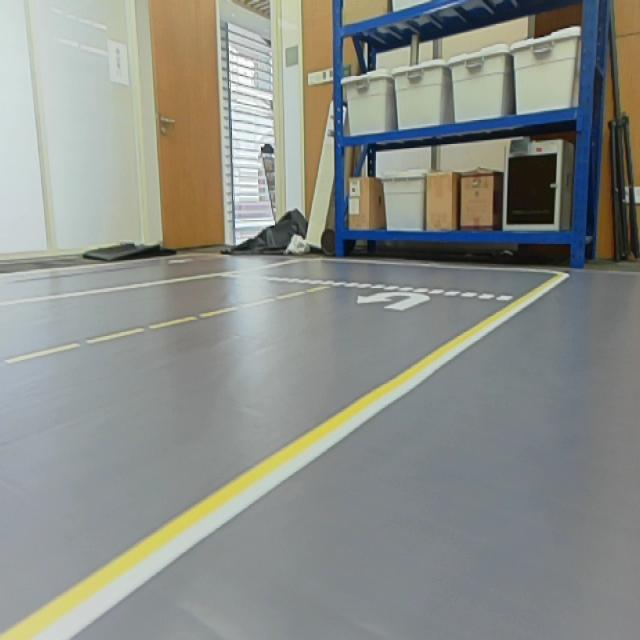left_lane: (0, 285, 329, 368)
right_lane: (1, 279, 563, 638), (1, 260, 306, 308)
